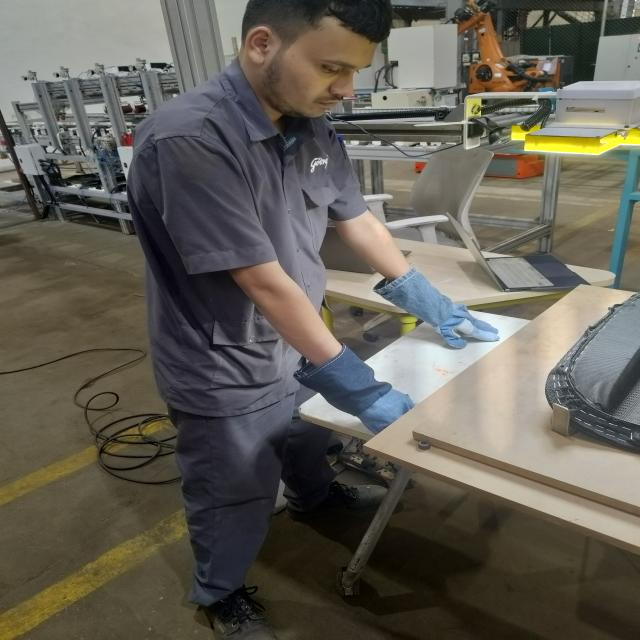Gloves-Detection: (295, 355, 413, 434), (387, 275, 494, 347)
